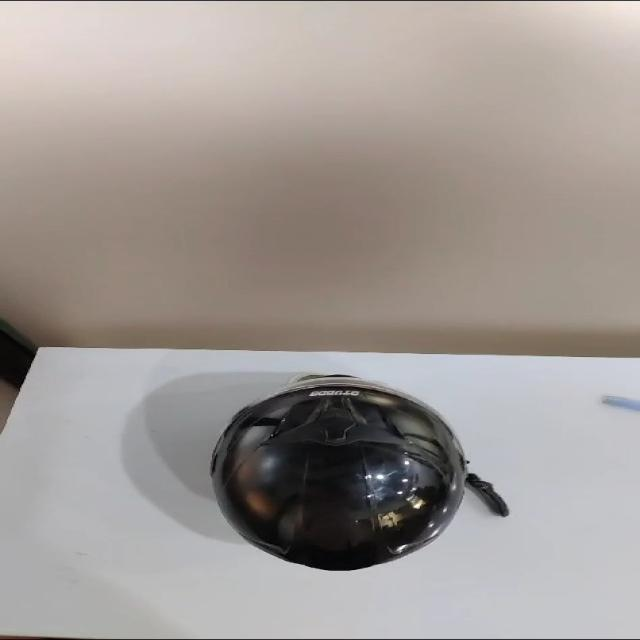helmet: (211, 375, 508, 569)
